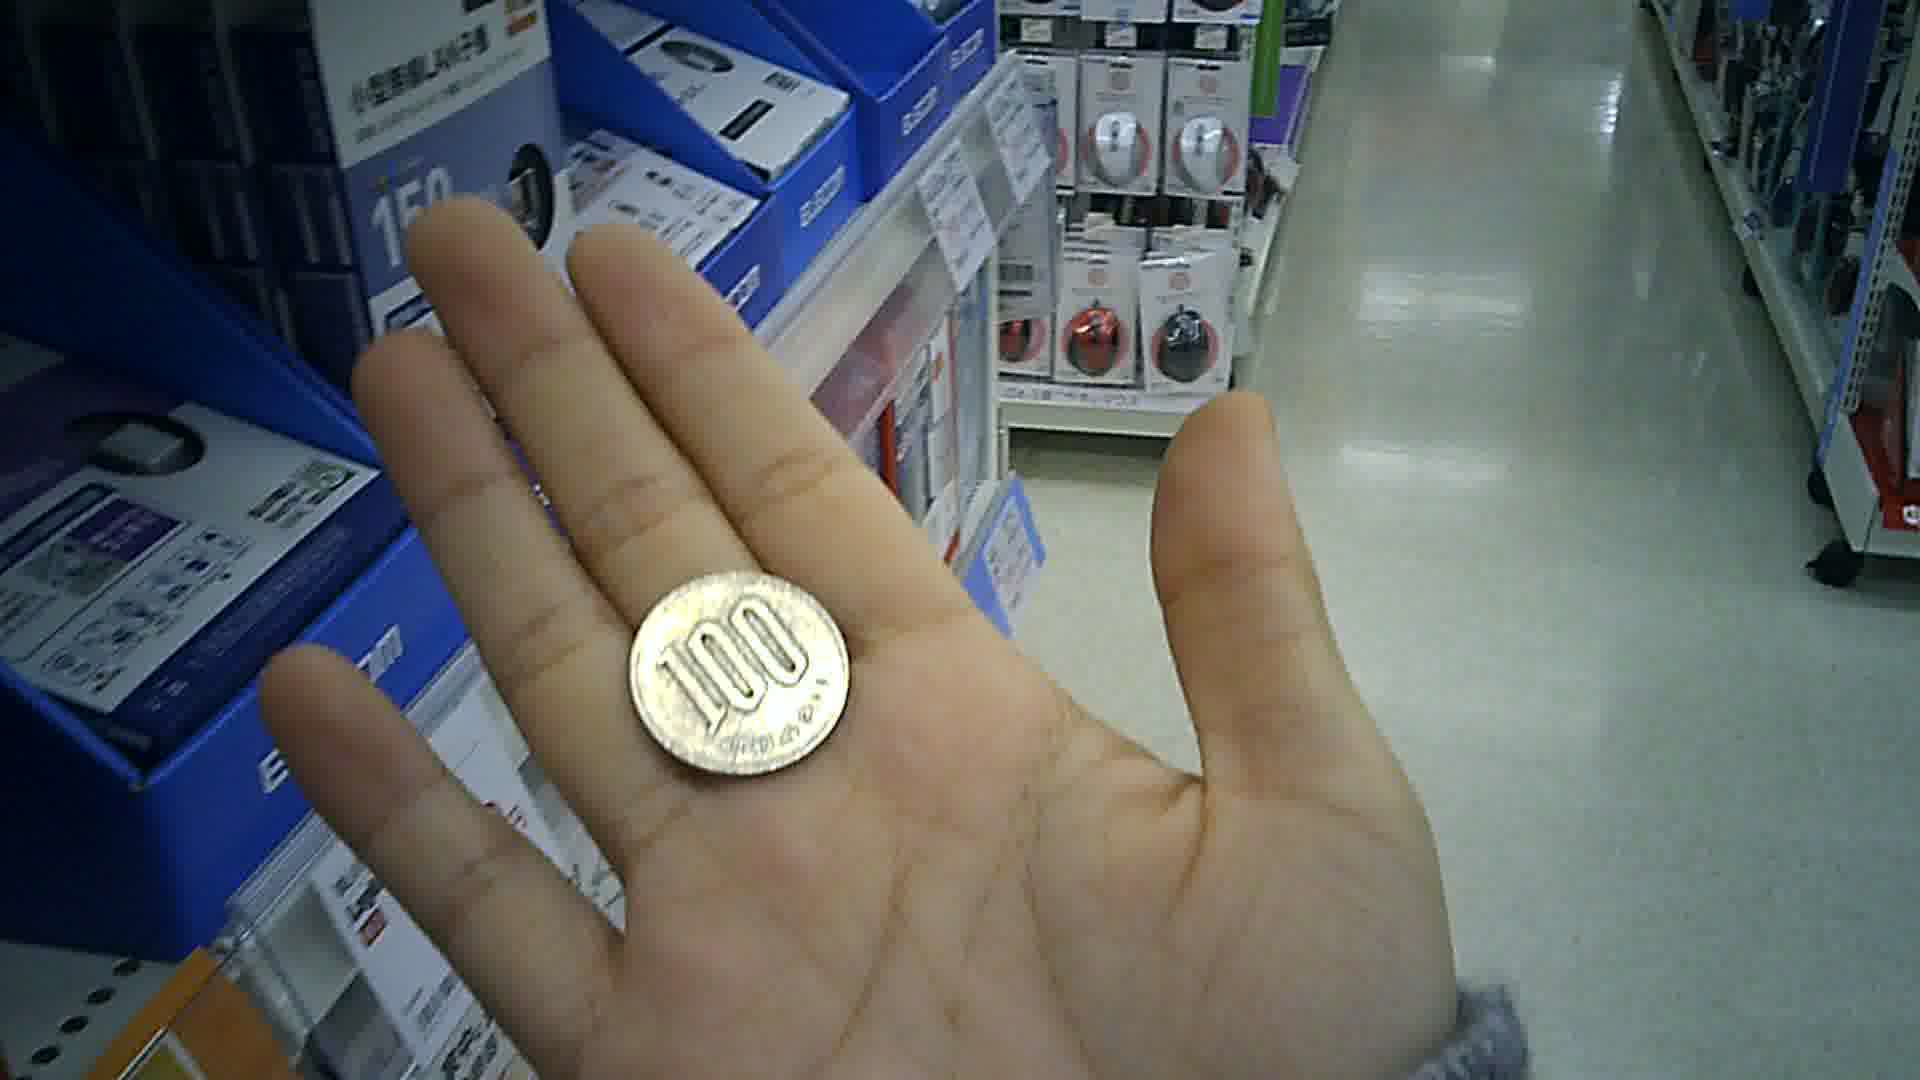100 Yen: (625, 568, 851, 773)
